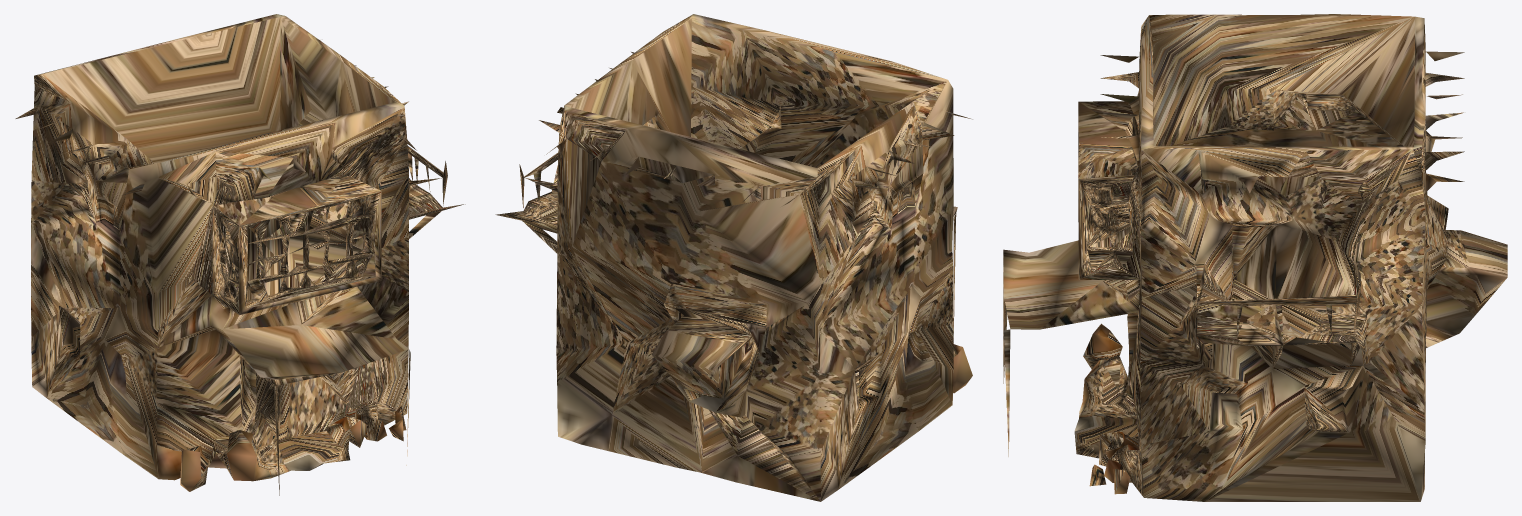
File: Desert_Dwelling.glb
3 renders of one model, left to right at view 1: azimuth 30°, elevation 25°; view 2: azimuth 150°, elevation 25°; view 3: azimuth 270°, elevation 25°, orthographic. The views are drawn at different scales.
Visible parts, largest first — view 1: Desert_Dwelling; view 2: Desert_Dwelling; view 3: Desert_Dwelling.
Boxes of the visible parts, bbox=[...] form: Desert_Dwelling: bbox=[15, 14, 465, 495]; Desert_Dwelling: bbox=[495, 14, 972, 501]; Desert_Dwelling: bbox=[1003, 14, 1507, 501].
Size of the model in its own units: 1.69 by 1.38 by 1.79.
Materials: 1 (1 with a texture image).
